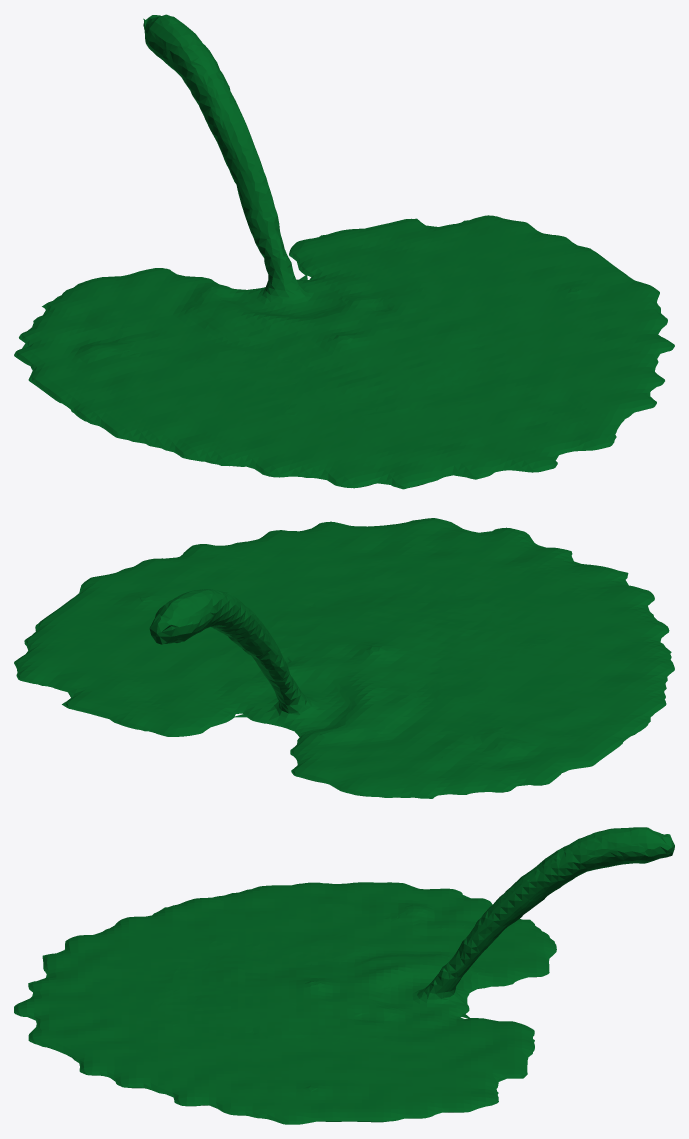
File: fluid_24.fbx
3 renders of one model, top to bottom at view 1: azimuth 30°, elevation 25°; view 2: azimuth 150°, elevation 25°; view 3: azimuth 270°, elevation 25°, orthographic. The views are drawn at different scales.
Parts seen in each view (by area): view 1: Cube; view 2: Cube; view 3: Cube.
Boxes of the visible parts, x1=… form: Cube: x1=14, y1=14, x2=674, y2=489; Cube: x1=14, y1=518, x2=674, y2=798; Cube: x1=14, y1=827, x2=674, y2=1124.
Size of the model in its own units: 516 by 176 by 596.
